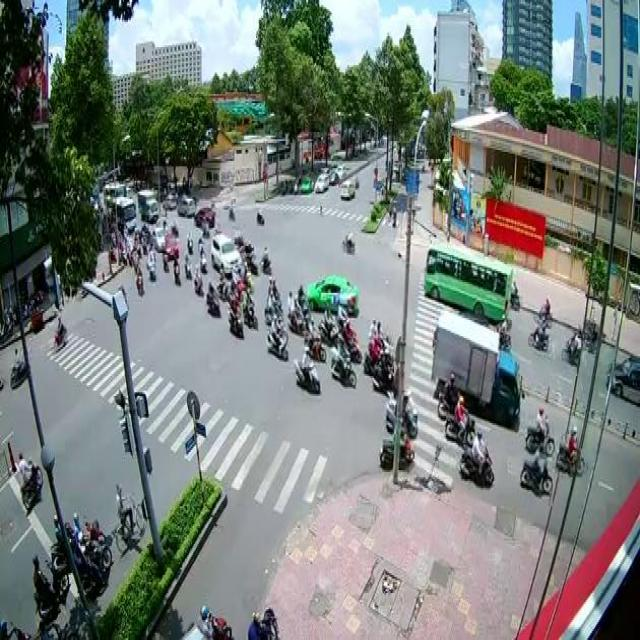bicycle: (111, 476, 145, 555)
car: (306, 273, 356, 311), (605, 354, 640, 405), (209, 231, 242, 275)
motorcycle: (456, 427, 495, 486), (523, 403, 555, 456), (329, 333, 356, 387), (519, 454, 553, 494), (292, 346, 319, 392), (264, 311, 288, 360)
truck: (430, 308, 520, 422), (424, 242, 513, 320)
